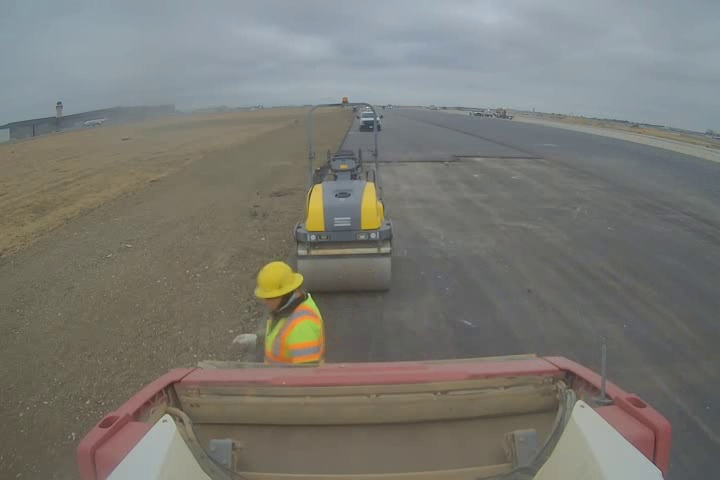person: (226, 254, 328, 365)
vehicle: (72, 351, 671, 480), (293, 102, 394, 293), (351, 108, 385, 130)
vest: (250, 297, 324, 362)
yellow_helmet: (251, 257, 311, 320)
